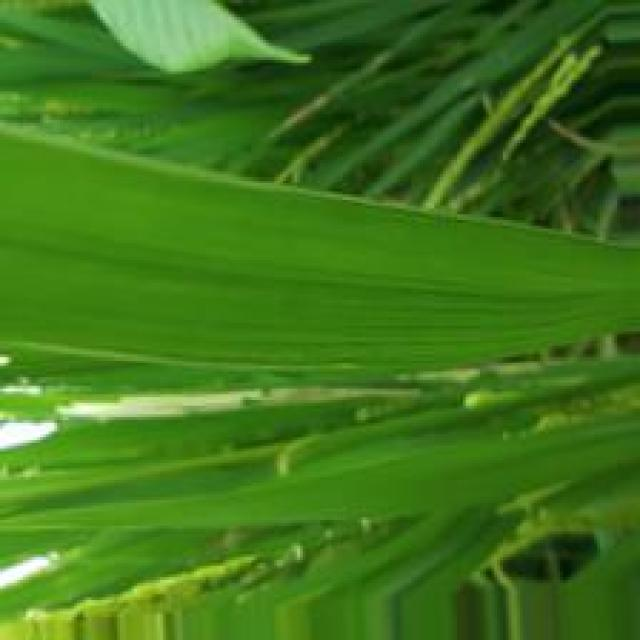HealthyLeaf: (10, 138, 583, 362)
